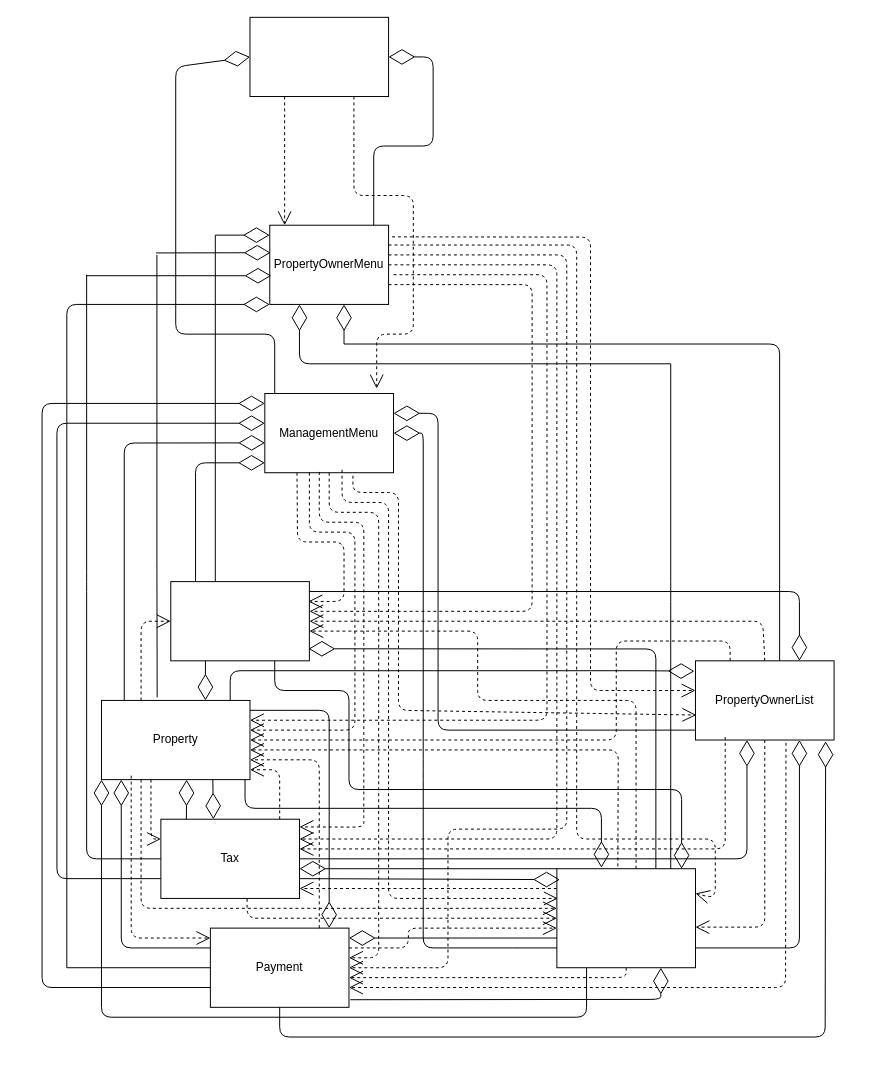
This 869x1080 diagram has some shape labels left out. Here are the shapes that lost their labels. From the top down, the centre of each, then its label:
the point at 319,56: PCMSystem
the point at 239,621: Address
the point at 625,918: PropertyOwner
